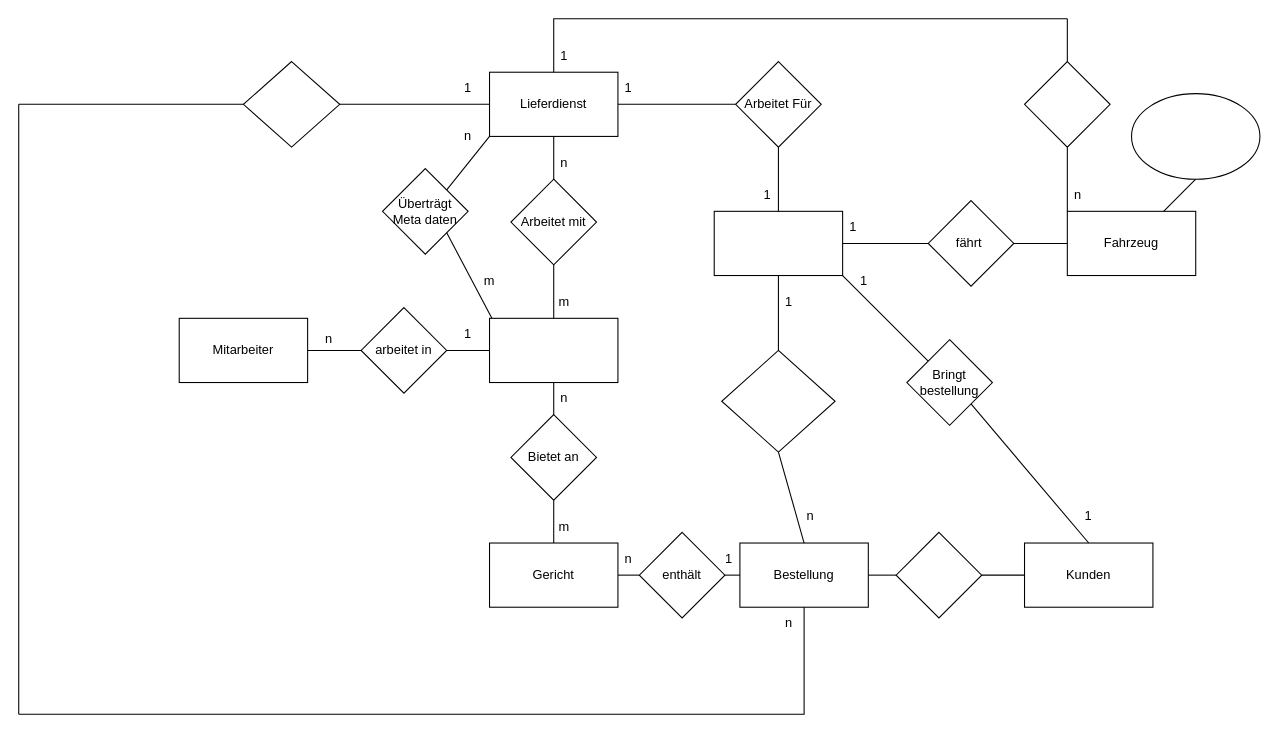
Image size: 1279x734. Some labels were removed from this diagram. The shapes that lost their labels are listed below. From the top down, each one's centre as x and y in pixels, then its label:
point 291,103: gibt bestellung
point 1066,103: besitzt
point 1195,136: fahrzeug typ
point 778,243: Fahrer
point 553,350: Restaurant
point 778,400: nimmt die bestellung mit
point 938,574: gibt auf
